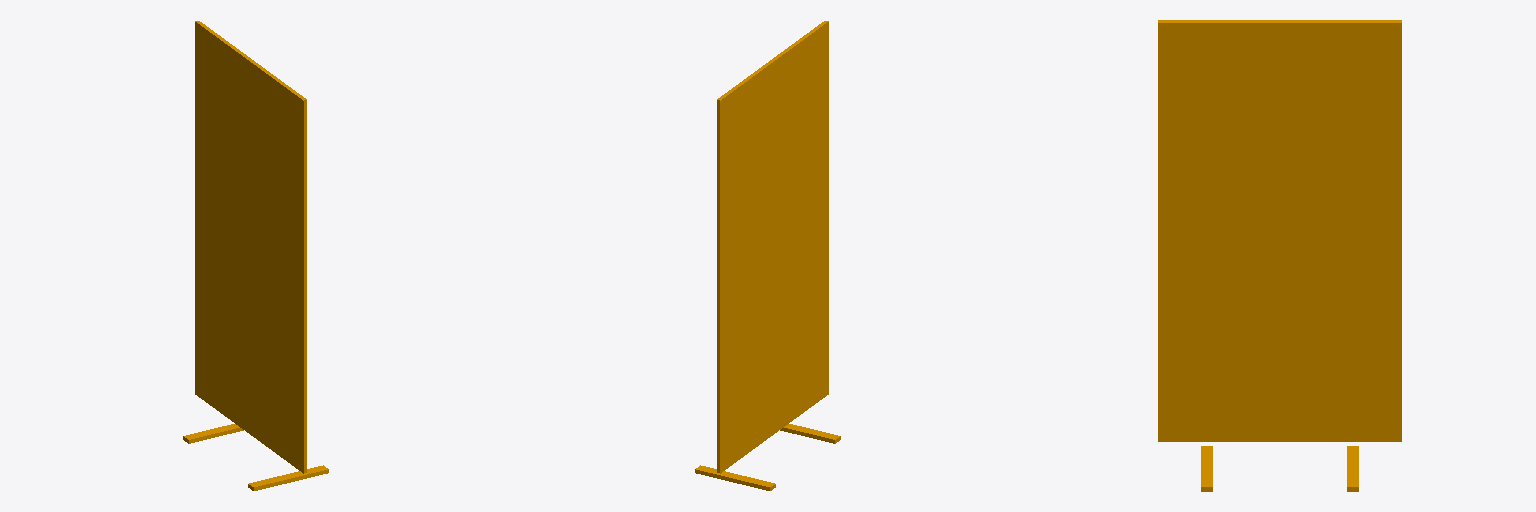
robot.urdf — plank-with-april-tags:
<robot name="plank-with-april-tags">
  <link name="base_link">
    <visual>
      <origin xyz="-0.015 0 1.073" rpy="0 0 0"/>
      <geometry>
        <box size="0.02 1.00 1.90"/>
      </geometry>
      <color rgba="1. 1. 1. .5"/>
    </visual>
    <visual>
      <origin xyz="0.01 -0.3 0.01" rpy="0 0 0"/>
      <geometry>
        <box size="0.4 0.05 0.02"/>
      </geometry>
    </visual>
    <visual>
      <origin xyz="0.01 0.3 0.01" rpy="0 0 0"/>
      <geometry>
        <box size="0.4 0.05 0.02"/>
      </geometry>
    </visual>
    <collision>
      <origin xyz="0.01 0 1.073" rpy="0 0 0"/>
      <geometry>
        <box size="0.02 1.00 1.90"/>
      </geometry>
    </collision>
    <collision>
      <origin xyz="0.01 -0.3 0.01" rpy="0 0 0"/>
      <geometry>
        <box size="0.4 0.05 0.02"/>
      </geometry>
    </collision>
    <collision>
      <origin xyz="0.01 0.3 0.01" rpy="0 0 0"/>
      <geometry>
        <box size="0.4 0.05 0.02"/>
      </geometry>
    </collision>
    <inertial>
      <mass value="5.0"/>
      <origin xyz="0 0 0.973" rpy="0 0 0"/>
      <inertia ixx="7.3" ixy="0" ixz="0" iyy="5.72" iyz="0" izz="1.58"/>
    </inertial>
  </link>

  <!-- tag 13 in the middle -->
  <link name="tag36_11_00013">
  </link>
  <joint name="to_tag_013_base" type="fixed">
    <parent link="base_link"/>
    <child link="tag36_11_00013"/>
    <origin xyz="0 0.045 1.456" rpy="1.5707963267948966 0 1.5707963267948966"/>
  </joint>
  <link name="tag36_11_00013_cao">
    <visual>
      <origin xyz="0 0 0"/>
      <geometry>
        <mesh filename="package://gerard_bauzil/meshes/apriltag_36h11/tag36_11_00013.dae" scale="0.1725 0.1725 1."/>
      </geometry>
    </visual>
  </link>
  <joint name="to_tag_013_cao" type="fixed">
    <parent link="tag36_11_00013"/>
    <child link="tag36_11_00013_cao"/>
    <origin xyz="0. 0. 0"  rpy="0 0 0"/>
  </joint>
</robot>

--- What the picture shows (computed from the rendered views, not written in the file) ---
The picture shows the robot from 3 angles, left to right: view 1: azimuth 30°, elevation 25°; view 2: azimuth 150°, elevation 25°; view 3: azimuth 270°, elevation 25°; orthographic projection.
Model plank-with-april-tags with 3 links and 2 joints (2 fixed), rooted at base_link, posed every joint at zero.
Visible links, largest first — view 1: base_link; view 2: base_link; view 3: base_link.
Link boxes in pixels (left/top/right/bottom): base_link: left=183, top=21, right=328, bottom=490; base_link: left=695, top=21, right=840, bottom=490; base_link: left=1158, top=20, right=1401, bottom=491.
Size in the robot's own frame: 0.4 by 1 by 2.02 metres.
Meshes: 1 distinct files referenced, 0 mesh visuals loaded (none loaded); not drawn: 1 (reference not matched to a file when rendering).
